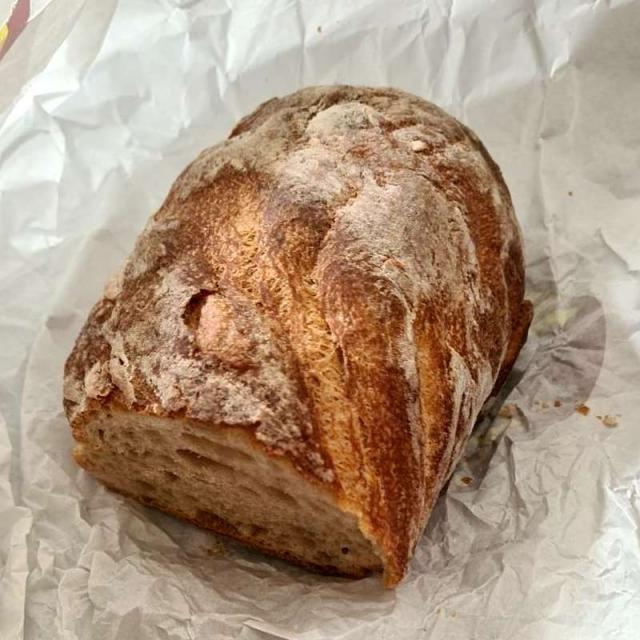bread-wholemeal: (72, 82, 525, 572)
